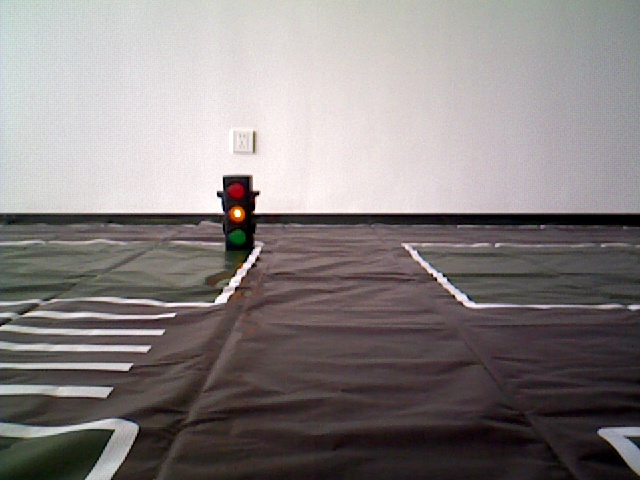yellow: (220, 172, 258, 252)
